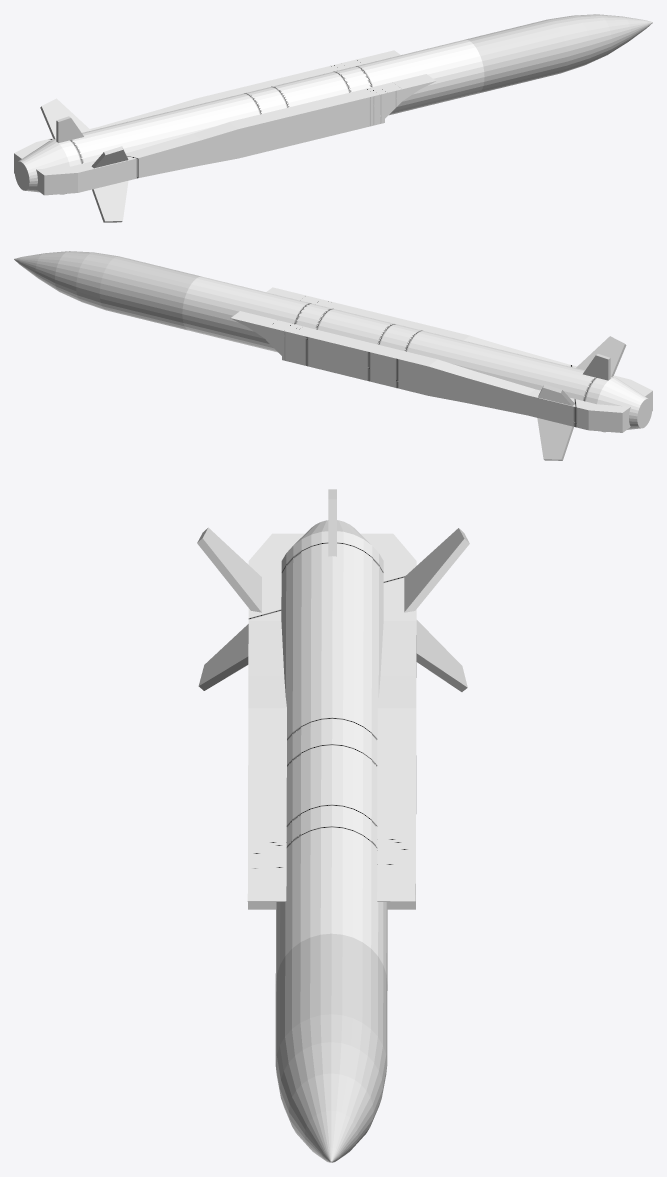
Rendered from m20nasmp1.glb.
3 views of the same model, one above another, from view 1: azimuth 30°, elevation 25°; view 2: azimuth 150°, elevation 25°; view 3: azimuth 270°, elevation 25° (orthographic). The views are drawn at different scales.
Visible parts, largest first — view 1: 立方体.044; view 2: 立方体.044; view 3: 立方体.044.
Boxes of the visible parts, box(x1,y1,x2,y2) form: 立方体.044: box(14, 14, 652, 222); 立方体.044: box(14, 251, 652, 460); 立方体.044: box(197, 489, 469, 1162).
Bounding box in the file's own units: 6.46 × 0.8527 × 1.21.
3 materials, 2 textured.
